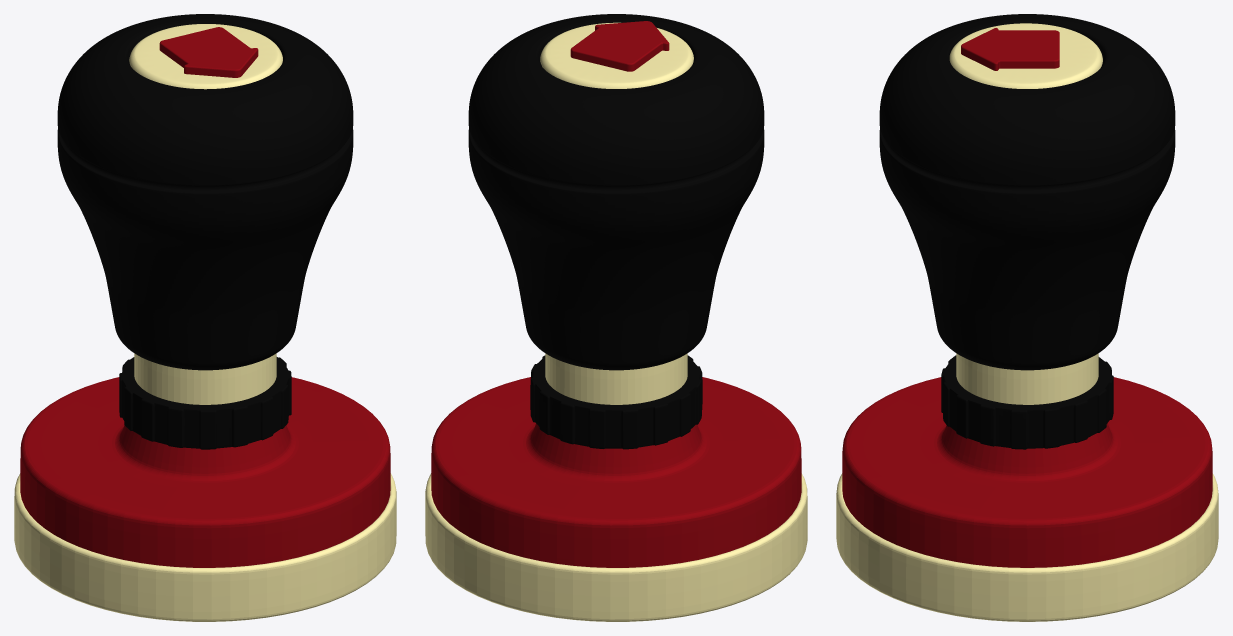
Rendered from stamp.obj.
3 renders of one model, left to right at view 1: azimuth 30°, elevation 25°; view 2: azimuth 150°, elevation 25°; view 3: azimuth 270°, elevation 25°, orthographic.
Parts seen in each view (by area): view 1: 38ef9acb_3024_46a3_9692_289d36903551, c8ffe5b8_e9cc_4644_997f_63136fd69354, 76e194f1_3952_41b2_827d_8674d73c8337, c3d2506a_8a7e_4e39_9aed_b6a7d7c2c295, 5ecb0e6a_21be_40eb_9f19_74e7258ae95b, ceefbf47_b5b9_4d74_88e9_1d8f144d52af, a9ea7f0b_8ded_4c51_96c3_9c3cea756fbb; view 2: 38ef9acb_3024_46a3_9692_289d36903551, c8ffe5b8_e9cc_4644_997f_63136fd69354, 76e194f1_3952_41b2_827d_8674d73c8337, c3d2506a_8a7e_4e39_9aed_b6a7d7c2c295, ceefbf47_b5b9_4d74_88e9_1d8f144d52af, 5ecb0e6a_21be_40eb_9f19_74e7258ae95b, a9ea7f0b_8ded_4c51_96c3_9c3cea756fbb; view 3: 38ef9acb_3024_46a3_9692_289d36903551, c8ffe5b8_e9cc_4644_997f_63136fd69354, 76e194f1_3952_41b2_827d_8674d73c8337, c3d2506a_8a7e_4e39_9aed_b6a7d7c2c295, 5ecb0e6a_21be_40eb_9f19_74e7258ae95b, ceefbf47_b5b9_4d74_88e9_1d8f144d52af, a9ea7f0b_8ded_4c51_96c3_9c3cea756fbb.
Part boxes in pixels (x1,y1,x2,y2): 38ef9acb_3024_46a3_9692_289d36903551: (57,14,353,370); c8ffe5b8_e9cc_4644_997f_63136fd69354: (20,377,390,567); 76e194f1_3952_41b2_827d_8674d73c8337: (14,473,396,621); c3d2506a_8a7e_4e39_9aed_b6a7d7c2c295: (119,357,291,449); 5ecb0e6a_21be_40eb_9f19_74e7258ae95b: (134,353,276,404); ceefbf47_b5b9_4d74_88e9_1d8f144d52af: (129,24,282,89); a9ea7f0b_8ded_4c51_96c3_9c3cea756fbb: (159,27,258,77); 38ef9acb_3024_46a3_9692_289d36903551: (468,14,764,370); c8ffe5b8_e9cc_4644_997f_63136fd69354: (431,377,801,567); 76e194f1_3952_41b2_827d_8674d73c8337: (425,473,807,621); c3d2506a_8a7e_4e39_9aed_b6a7d7c2c295: (530,355,702,449); ceefbf47_b5b9_4d74_88e9_1d8f144d52af: (540,22,693,88); 5ecb0e6a_21be_40eb_9f19_74e7258ae95b: (545,353,687,404); a9ea7f0b_8ded_4c51_96c3_9c3cea756fbb: (570,21,669,71); 38ef9acb_3024_46a3_9692_289d36903551: (879,14,1175,370); c8ffe5b8_e9cc_4644_997f_63136fd69354: (842,377,1212,567); 76e194f1_3952_41b2_827d_8674d73c8337: (836,473,1218,621); c3d2506a_8a7e_4e39_9aed_b6a7d7c2c295: (941,355,1113,449); 5ecb0e6a_21be_40eb_9f19_74e7258ae95b: (956,353,1098,404); ceefbf47_b5b9_4d74_88e9_1d8f144d52af: (949,23,1102,88); a9ea7f0b_8ded_4c51_96c3_9c3cea756fbb: (961,28,1059,70).
Bounding box in the file's own units: 1674 × 2402 × 1674.
